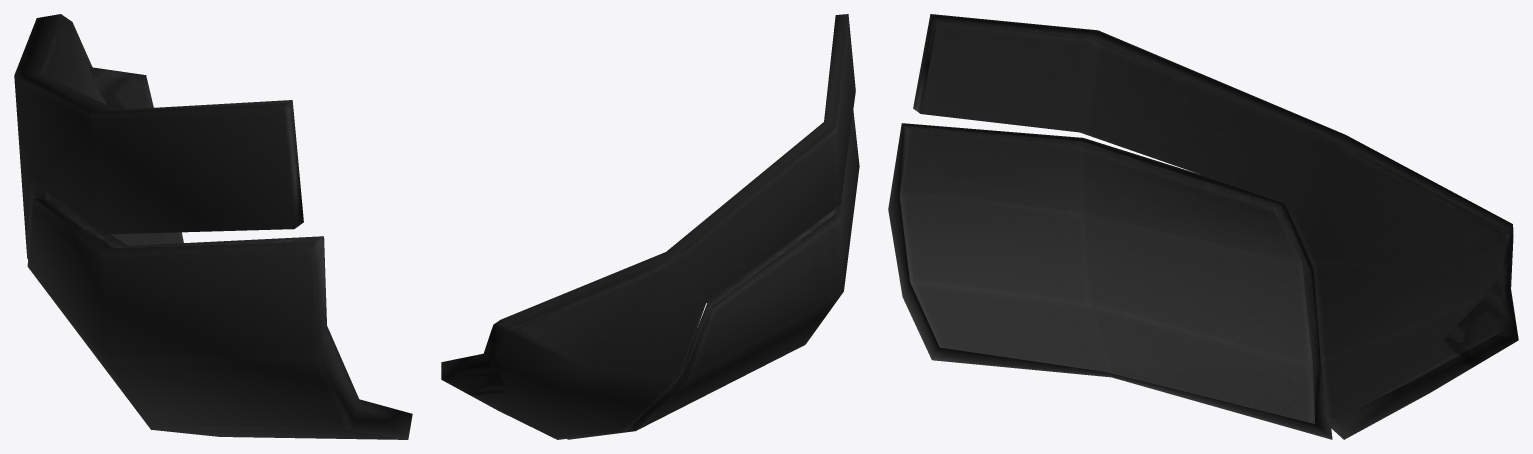
File: pinger_plate_back_left.dae
3 views of the same model, side by side, from view 1: azimuth 30°, elevation 25°; view 2: azimuth 150°, elevation 25°; view 3: azimuth 270°, elevation 25° (orthographic). The views are drawn at different scales.
Parts seen in each view (by area): view 1: pinger_plate_back_left; view 2: pinger_plate_back_left; view 3: pinger_plate_back_left.
Boxes of the visible parts, <box> form: pinger_plate_back_left: <box>14,14,412,439</box>; pinger_plate_back_left: <box>441,14,859,439</box>; pinger_plate_back_left: <box>888,14,1518,439</box>.
Bounding box in the file's own units: 0.7383 × 1.63 × 1.05.
Materials: 1 (1 with a texture image).
